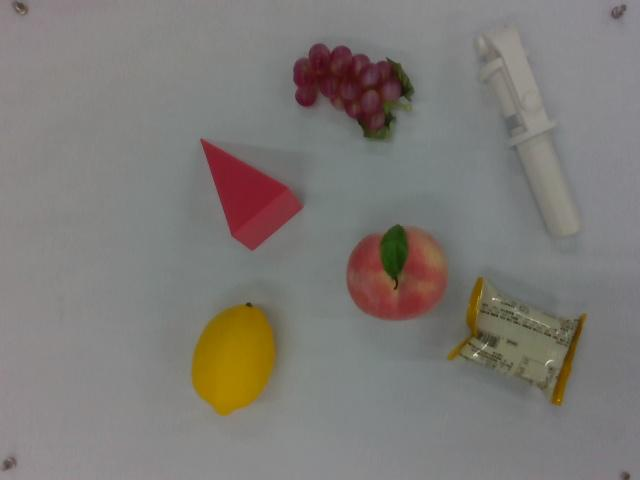dessert: (457, 281, 584, 403)
grape: (288, 39, 413, 143)
lemon: (190, 298, 275, 420)
peach: (342, 224, 445, 323)
pyramid: (198, 135, 305, 253)
selfiestick: (472, 23, 582, 238)
